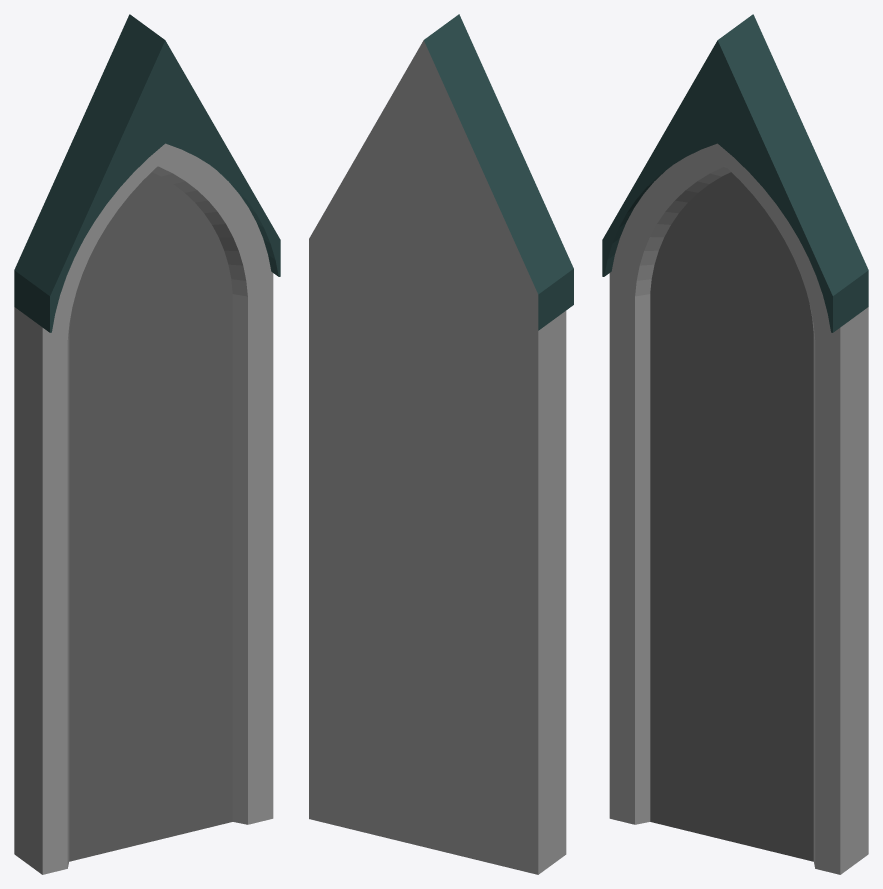
Rendered from Prop_Gothic_Building_Overhang_Window_03.FBX.
The picture shows the model from 3 angles, left to right: view 1: azimuth 30°, elevation 25°; view 2: azimuth 150°, elevation 25°; view 3: azimuth 330°, elevation 25°; orthographic projection.
Parts seen in each view (by area): view 1: Prop_Gothic_Building_Overhang_Window_03; view 2: Prop_Gothic_Building_Overhang_Window_03; view 3: Prop_Gothic_Building_Overhang_Window_03.
Boxes of the visible parts, bbox=[...] form: Prop_Gothic_Building_Overhang_Window_03: bbox=[14, 14, 280, 874]; Prop_Gothic_Building_Overhang_Window_03: bbox=[309, 14, 573, 874]; Prop_Gothic_Building_Overhang_Window_03: bbox=[602, 14, 868, 874].
Size of the model in its own units: 1079 by 3631 by 290.
